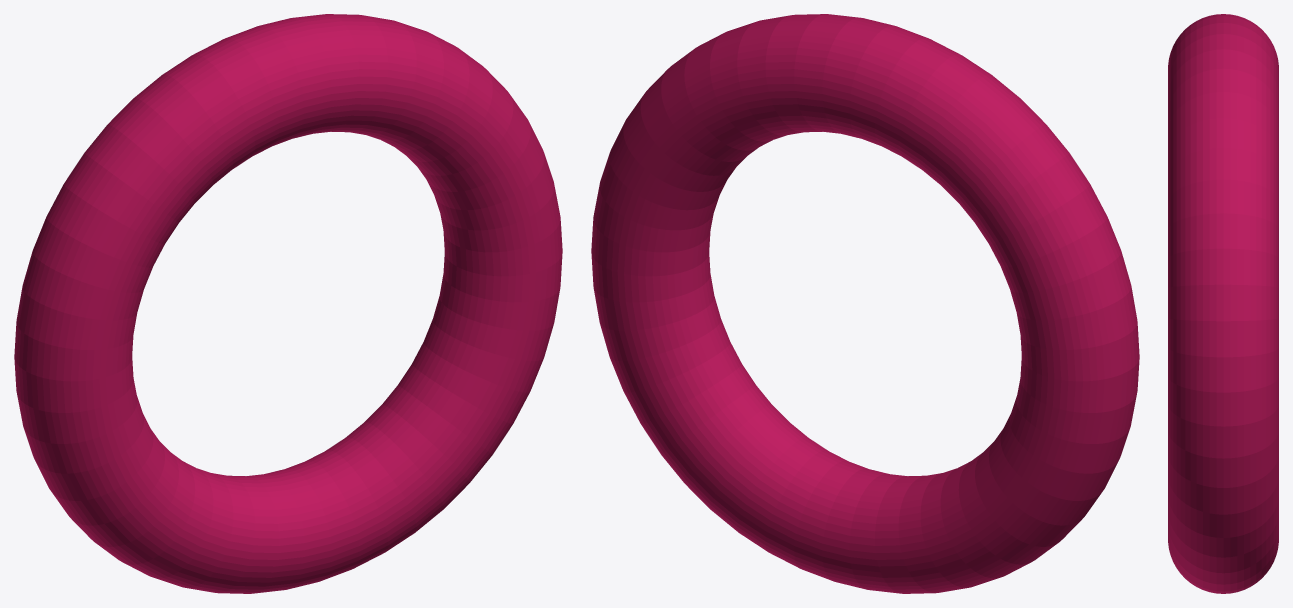
The picture shows the model from 3 angles, left to right: view 1: azimuth 30°, elevation 25°; view 2: azimuth 150°, elevation 25°; view 3: azimuth 270°, elevation 25°; orthographic projection. The views are drawn at different scales.
Parts seen in each view (by area): view 1: world; view 2: world; view 3: world.
Boxes of the visible parts, left/top/right/bottom form: world: left=14, top=14, right=562, bottom=593; world: left=591, top=14, right=1139, bottom=593; world: left=1168, top=14, right=1278, bottom=593.
Size of the model in its own units: 35.47 by 35.4 by 6.79.
